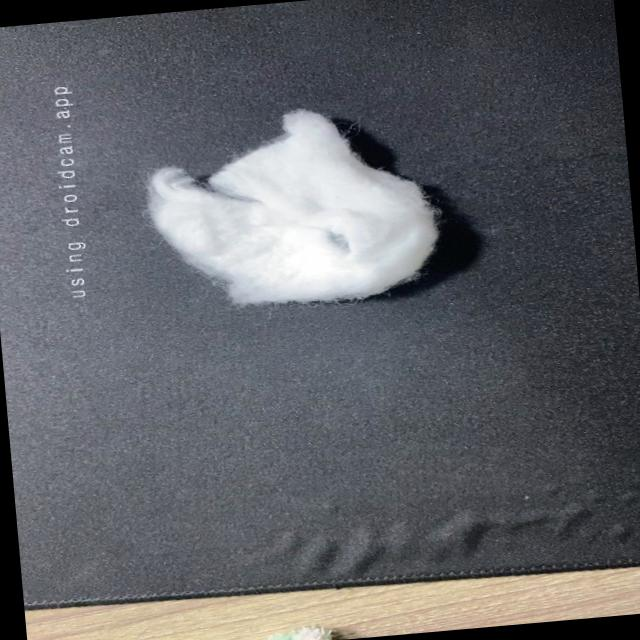cotton: (138, 92, 458, 323)
